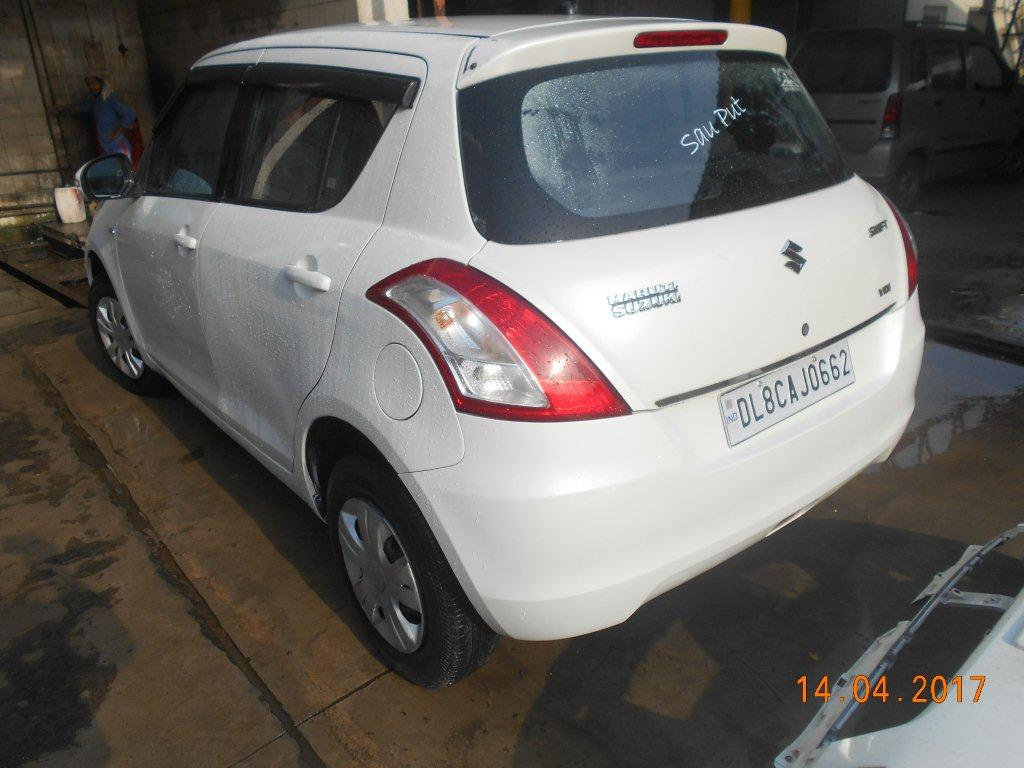Scratch_or_spot: (355, 446, 584, 532)
